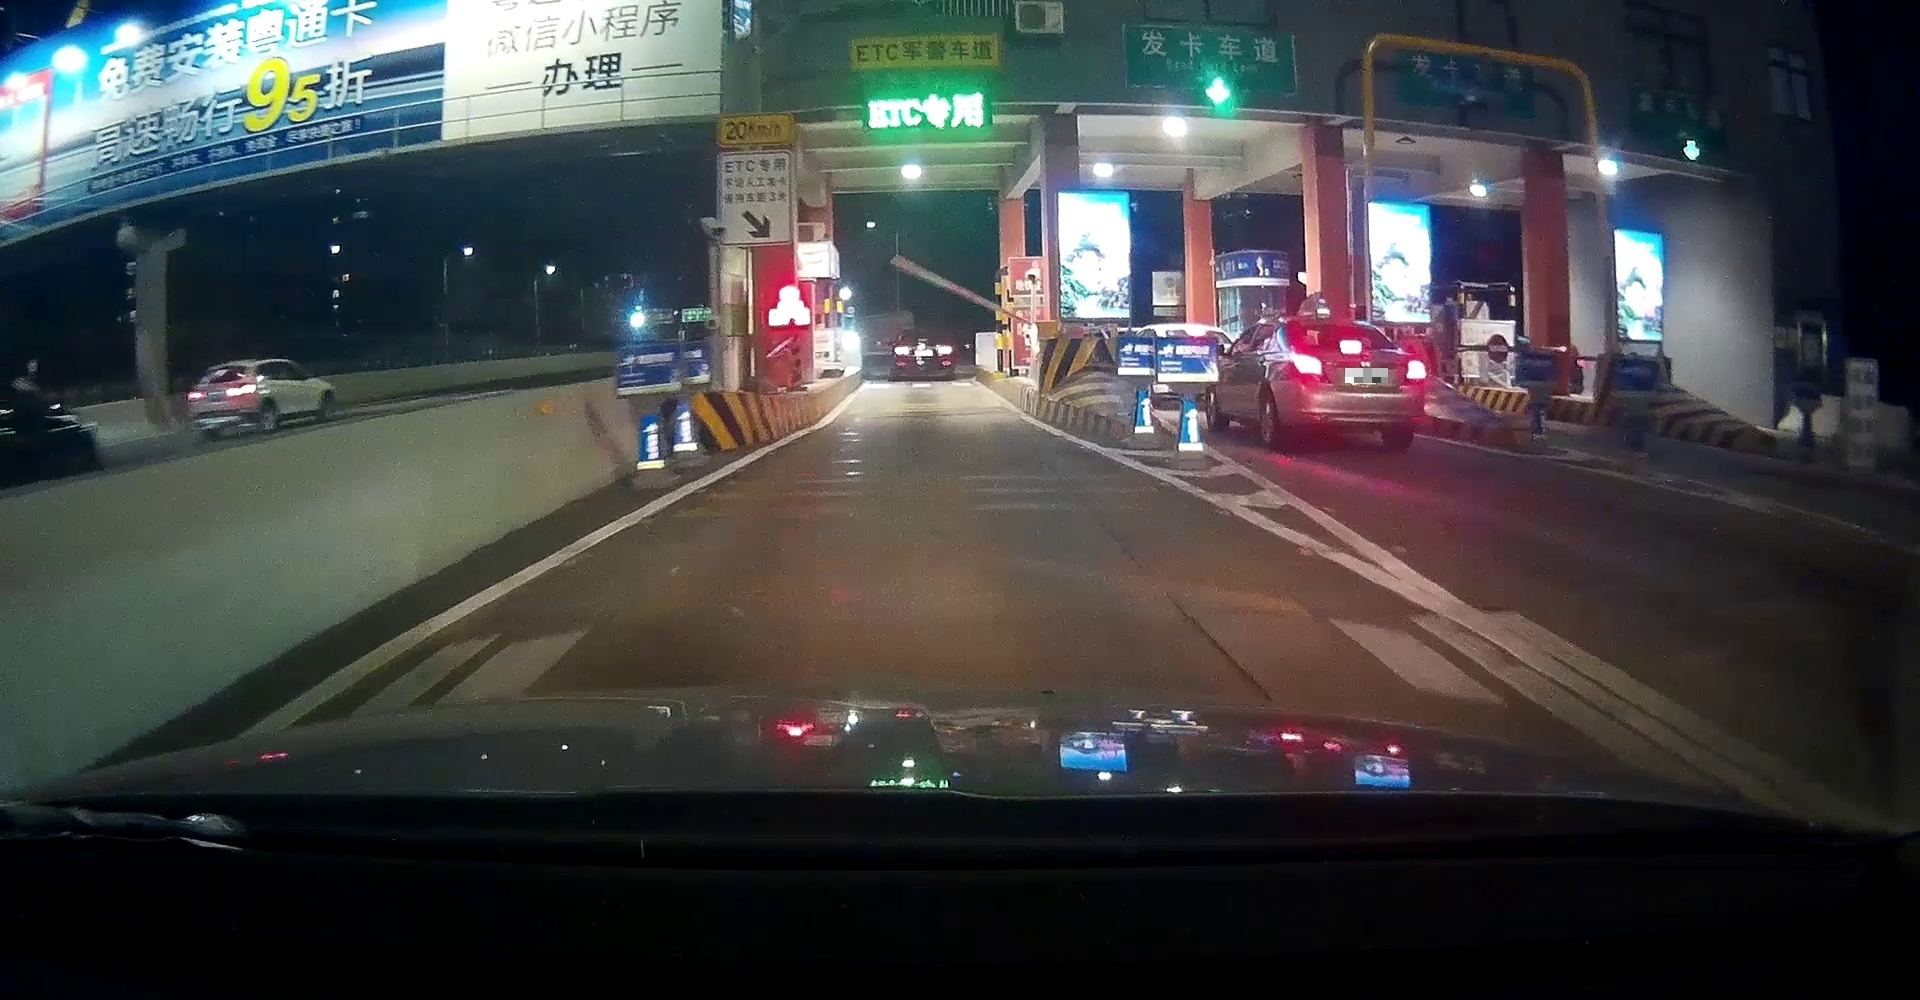L_light: (1288, 352, 1324, 377), (187, 390, 210, 404), (894, 346, 910, 355)
R_light: (225, 383, 257, 397), (1404, 360, 1427, 379), (936, 345, 952, 357)
T_light: (1338, 340, 1363, 352), (213, 364, 231, 371), (917, 338, 930, 341)
day-no: (891, 330, 957, 378)
night-brake: (1272, 319, 1427, 447)
night-no: (185, 360, 264, 442)
plate_1: (1345, 368, 1388, 383)
